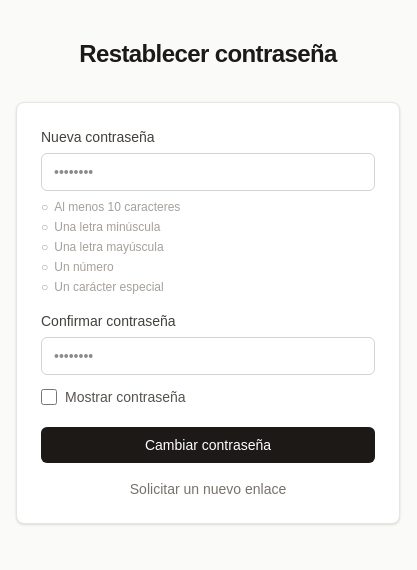
Scenario: ResetPasswordForm › shows the server message (no technical detail) on an invalid/expired token
Type "BrandNew!2027" into the password field labelled "Nueva contraseña" at (208, 172), box top-left (41, 153), bottom-right (375, 191)
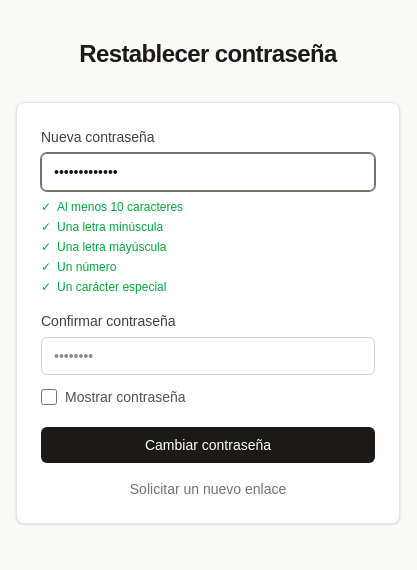
Type "BrandNew!2027" into the password field labelled "Confirmar contraseña" at (208, 356), box top-left (41, 337), bottom-right (375, 375)
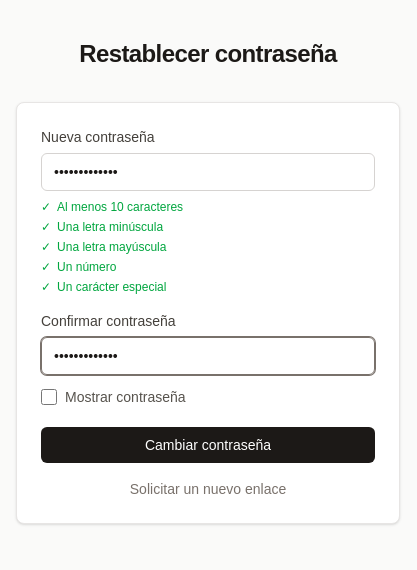
Click the button "Cambiar contraseña" at (208, 445), box top-left (41, 427), bottom-right (375, 463)
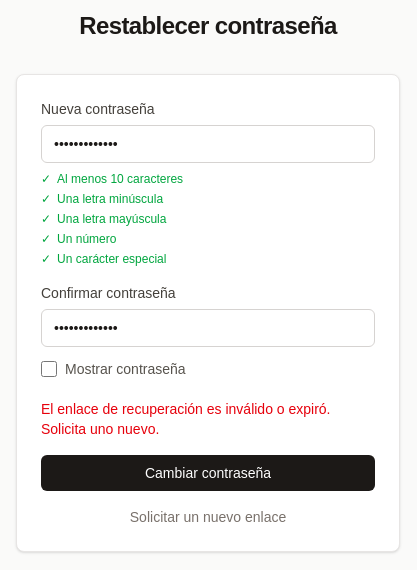
Now the text "El enlace de recuperación es inválido o expiró. Solicita uno nuevo." is shown, box top-left (41, 399), bottom-right (375, 439)
